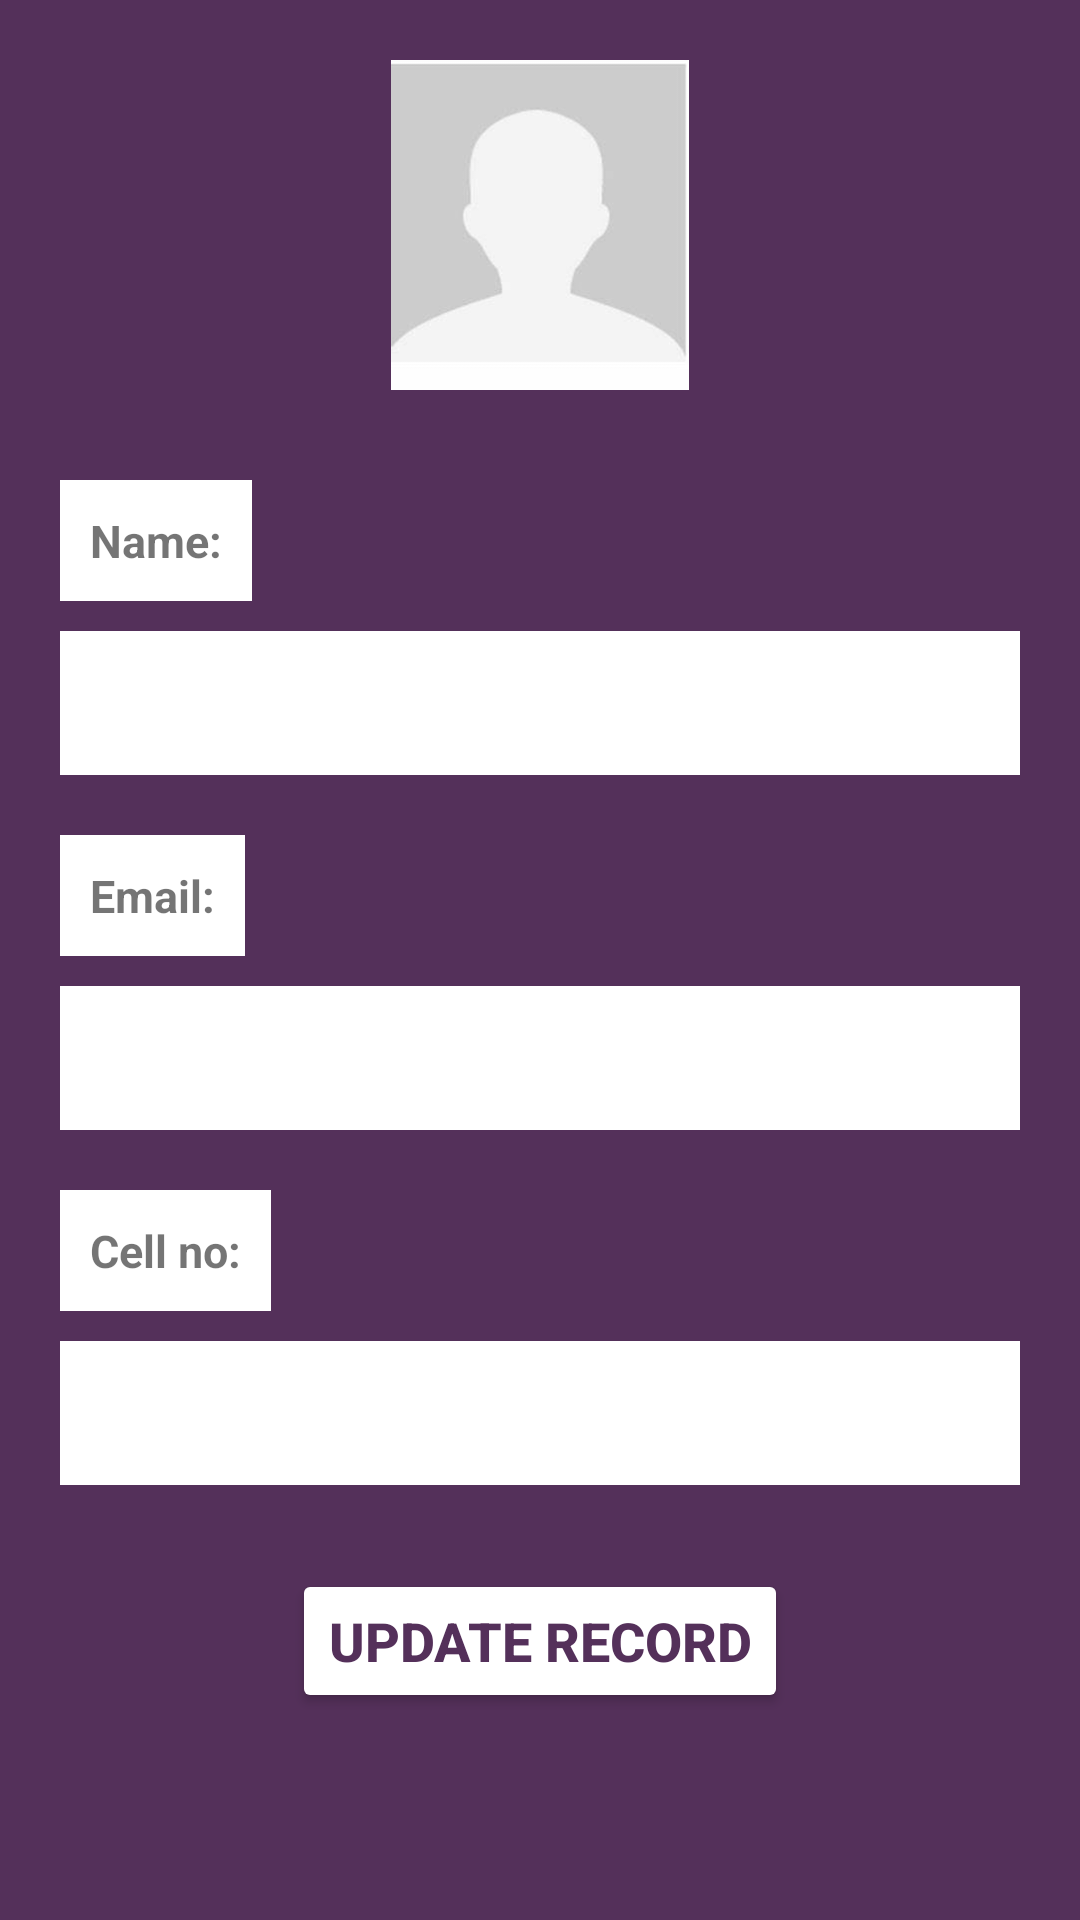

Where icons sit on this 1080px×1920px app screen, as (x1, y1, x2, y2):
profile: (391, 60, 689, 390)
